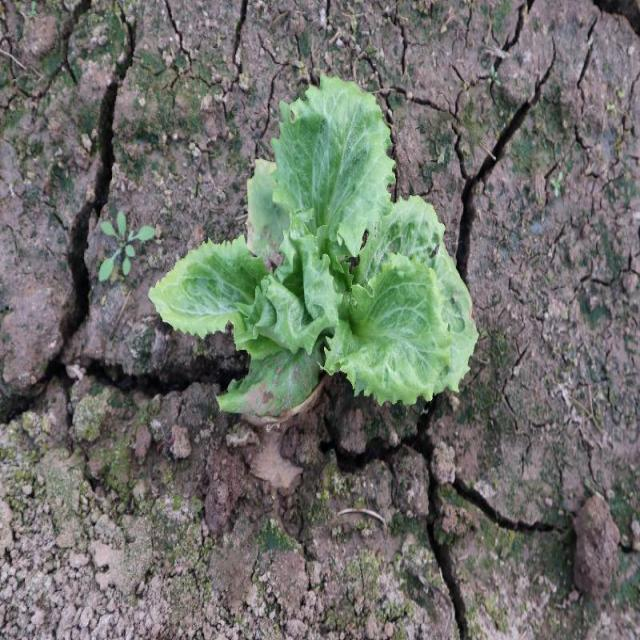crop: (151, 73, 478, 410)
